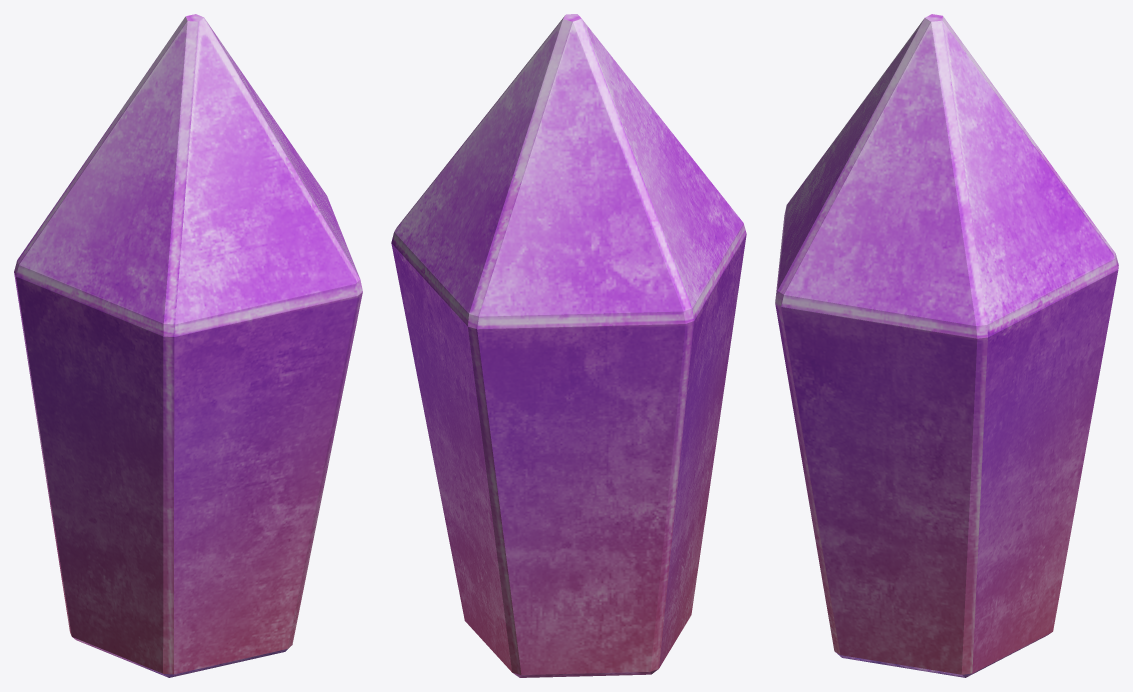
Rendered from Crystal.obj.
3 views of the same model, side by side, from view 1: azimuth 30°, elevation 25°; view 2: azimuth 150°, elevation 25°; view 3: azimuth 270°, elevation 25° (orthographic).
Bounding box in the file's own units: 0.7442 × 1.43 × 0.7179.
Materials: 1 (1 with a texture image).
